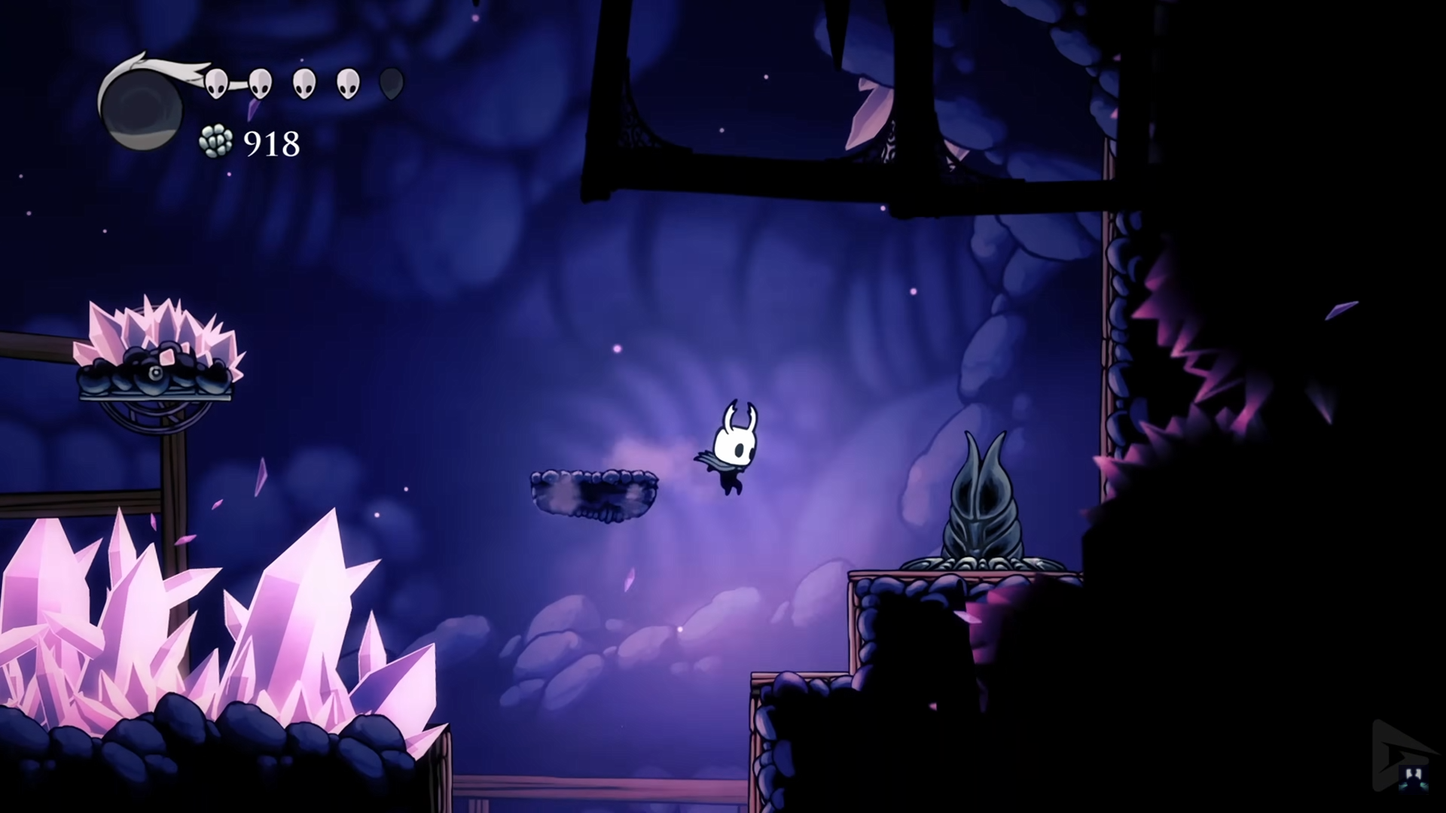HK: (697, 395, 765, 496)
